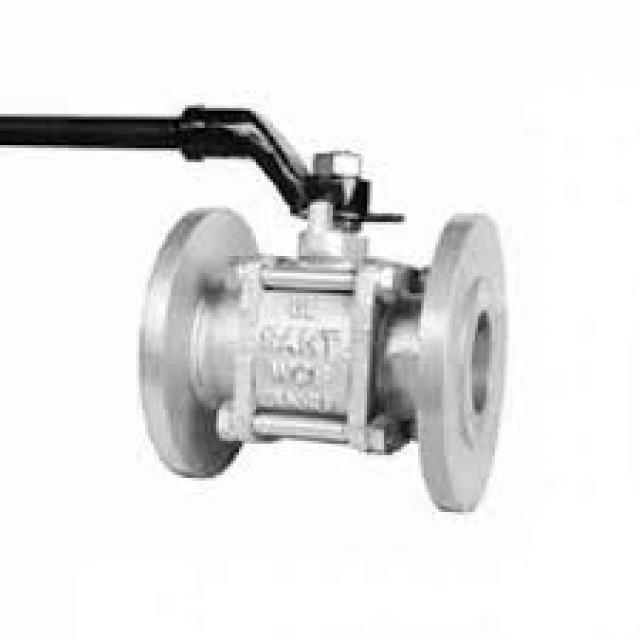Lever Handle Valve Threaded: (1, 72, 426, 252)
